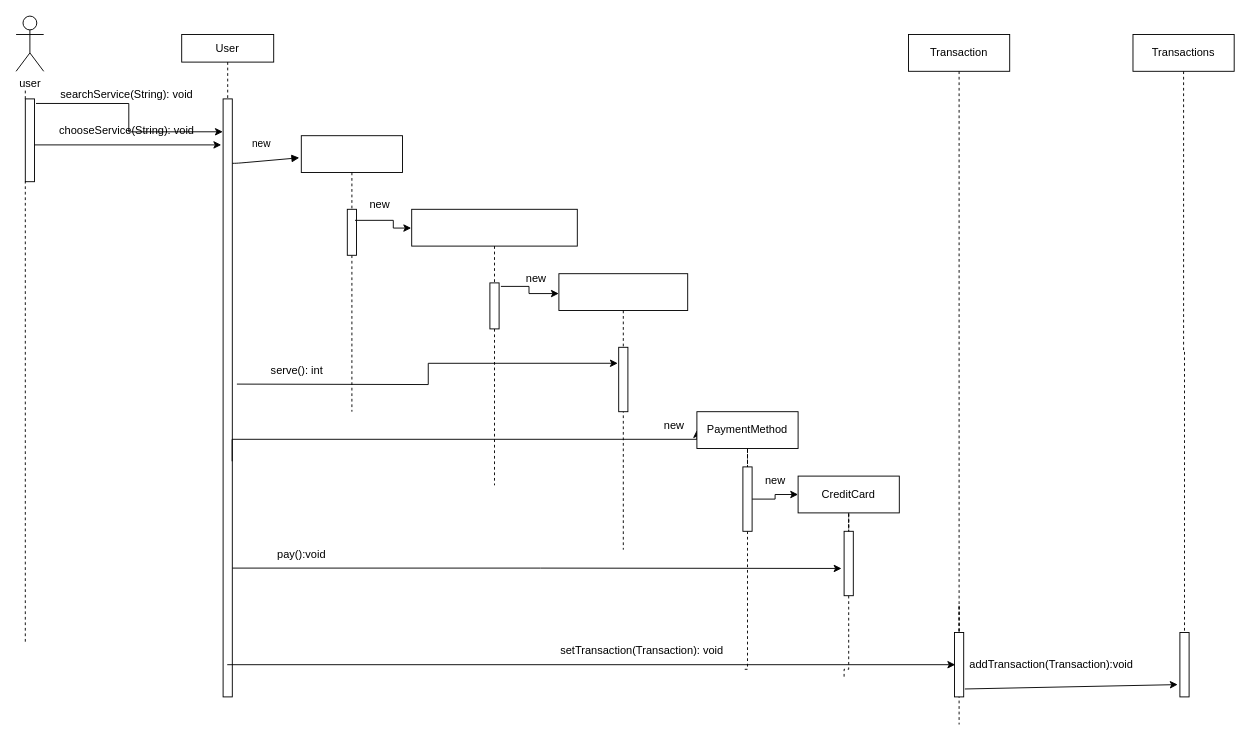
Some shapes in this 1250 by 742 pixel diagram are drawn without their labels. Each missing label, with the box of its shape:
Mobile Recharge Service: (411, 208, 577, 485)
Service: (300, 135, 402, 412)
VodafoneRecharge: (558, 273, 688, 550)
